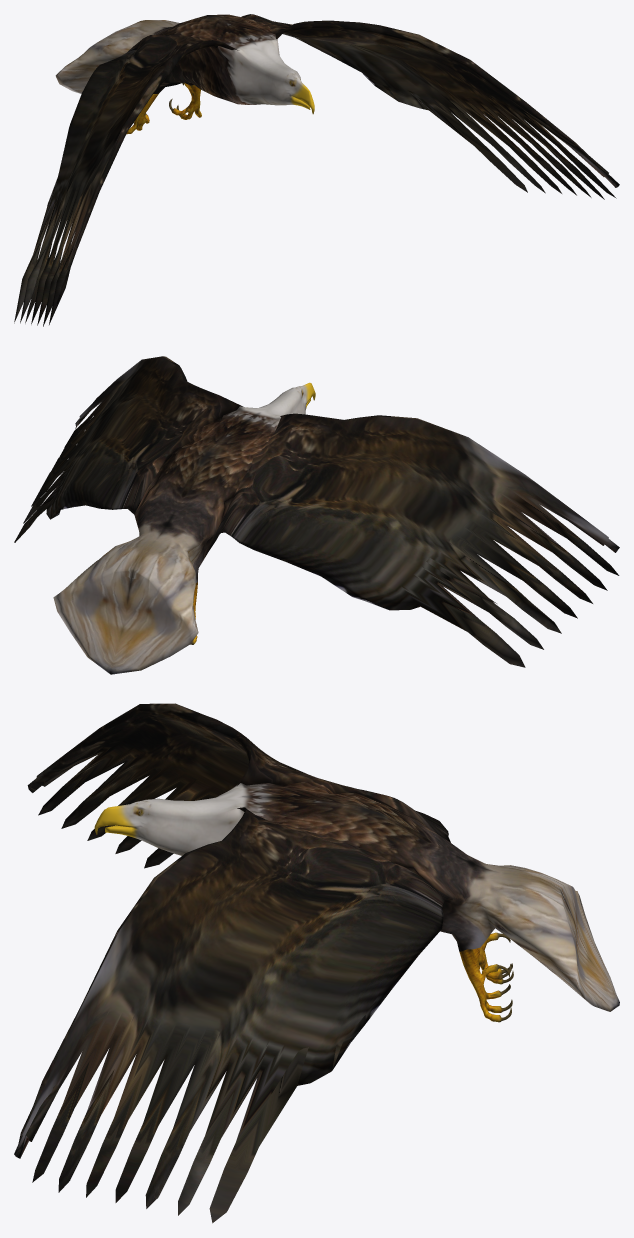
The model's file is Eagle-original_000104.obj.
3 renders of one model, top to bottom at view 1: azimuth 30°, elevation 25°; view 2: azimuth 150°, elevation 25°; view 3: azimuth 270°, elevation 25°, orthographic. The views are drawn at different scales.
Parts seen in each view (by area): view 1: Flugel_Plane.003; view 2: Flugel_Plane.003; view 3: Flugel_Plane.003.
Boxes of the visible parts, left/top/right/bottom form: Flugel_Plane.003: left=14, top=14, right=619, bottom=326; Flugel_Plane.003: left=14, top=356, right=619, bottom=674; Flugel_Plane.003: left=14, top=703, right=619, bottom=1223.
Size of the model in its own units: 9.05 by 3.36 by 6.52.
1 material, 1 textured.
